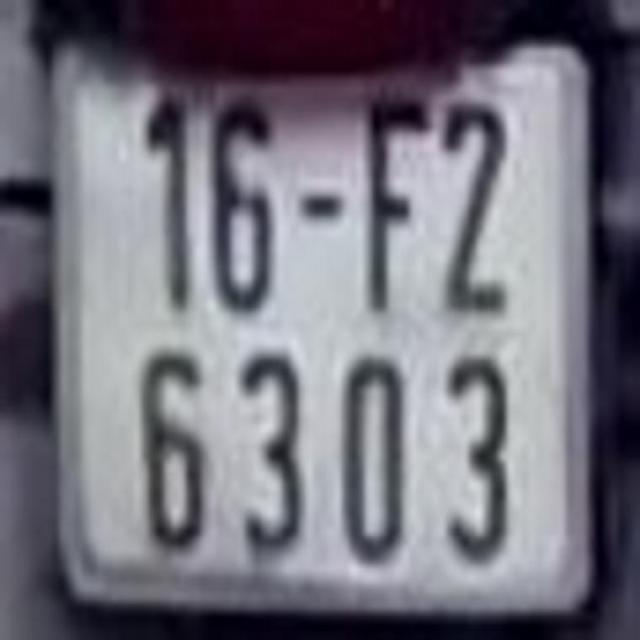0: (344, 358, 404, 556)
1: (146, 100, 200, 318)
2: (442, 101, 505, 314)
3: (442, 352, 507, 558), (238, 353, 302, 553)
6: (211, 106, 277, 304), (141, 351, 208, 544)
F: (369, 91, 432, 319)
